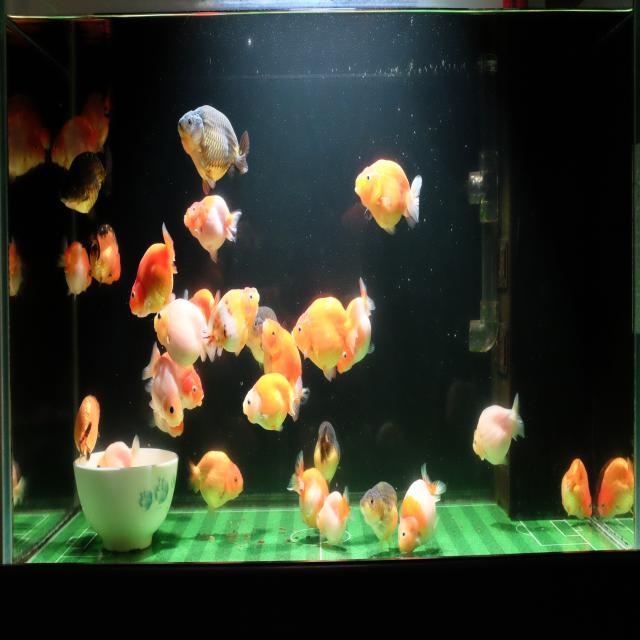Tilapia: (176, 101, 251, 189), (292, 295, 362, 383), (354, 155, 423, 243), (128, 220, 178, 320), (397, 461, 448, 556), (200, 284, 261, 363), (153, 294, 215, 371), (183, 193, 243, 270), (260, 315, 310, 406), (142, 341, 206, 412), (186, 447, 245, 520), (335, 275, 377, 377), (472, 389, 526, 468), (59, 148, 114, 218), (241, 375, 305, 434), (286, 448, 330, 531), (143, 342, 184, 428), (359, 478, 402, 554), (51, 114, 102, 172), (76, 78, 117, 145), (597, 454, 634, 524), (243, 305, 286, 363), (86, 219, 121, 289), (316, 484, 354, 547), (56, 238, 91, 306), (560, 458, 595, 524), (72, 391, 102, 464), (313, 416, 341, 488), (94, 431, 142, 471)
